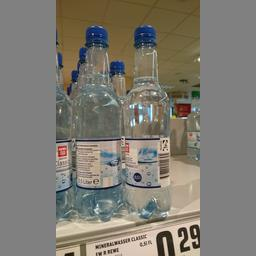water: (116, 22, 170, 223), (70, 22, 120, 220)
